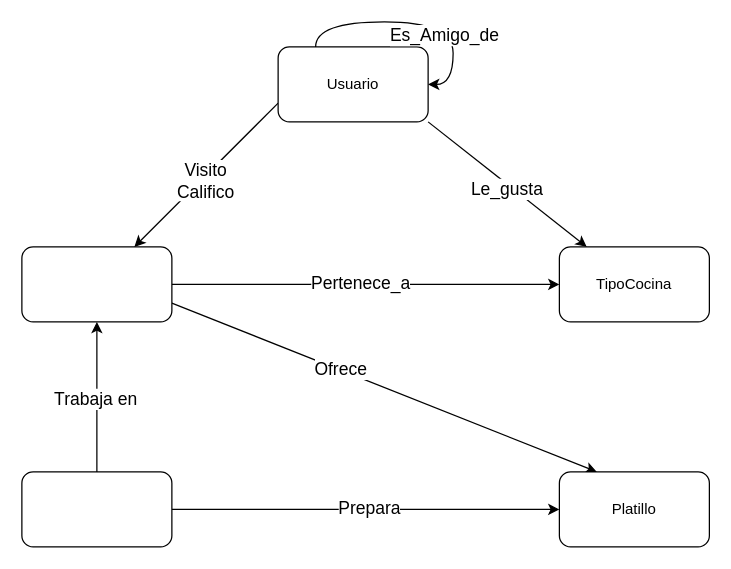
Some shapes in this 731 by 569 pixel diagram are drawn without their labels. Each missing label, with the box of its shape:
Chef: (21, 471, 172, 547)
Restaurante: (21, 246, 172, 322)
